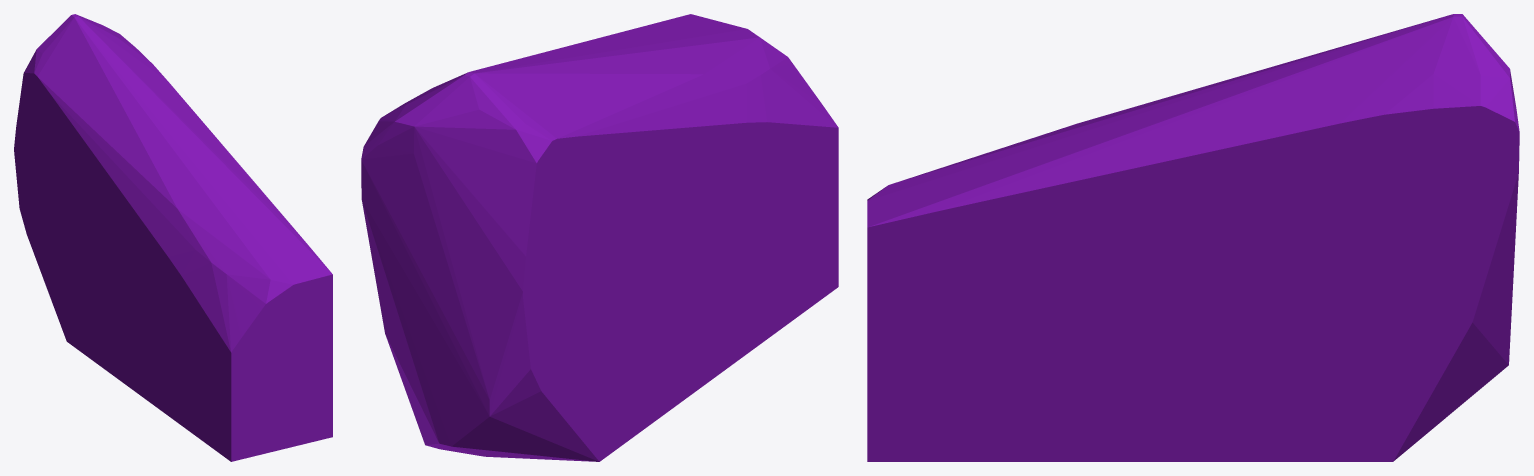
The picture shows the model from 3 angles, left to right: view 1: azimuth 30°, elevation 25°; view 2: azimuth 150°, elevation 25°; view 3: azimuth 270°, elevation 25°; orthographic projection. The views are drawn at different scales.
Size of the model in its own units: 0.00608 by 0.0162 by 0.0235.
